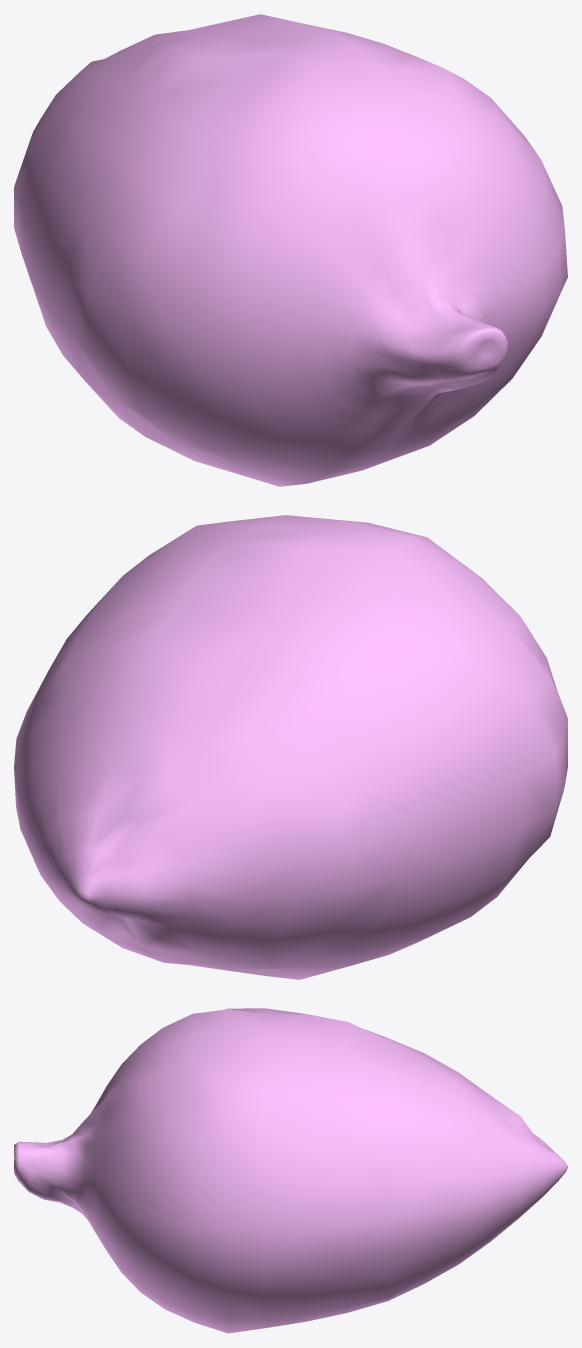
Rendered from graine.fbx.
3 views of the same model, one above another, from view 1: azimuth 30°, elevation 25°; view 2: azimuth 150°, elevation 25°; view 3: azimuth 270°, elevation 25° (orthographic). The views are drawn at different scales.
Visible parts, largest first — view 1: graine; view 2: graine; view 3: graine.
Part boxes in pixels (bbox=[...]): graine: bbox=[14, 14, 567, 486]; graine: bbox=[14, 515, 567, 979]; graine: bbox=[14, 1008, 567, 1333].
Size of the model in its own units: 20.81 by 16.9 by 30.11.
